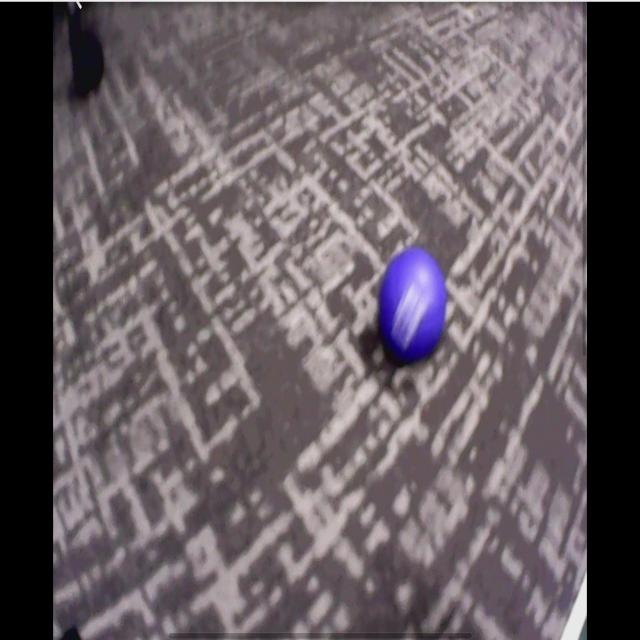ball: (382, 250, 446, 356)
